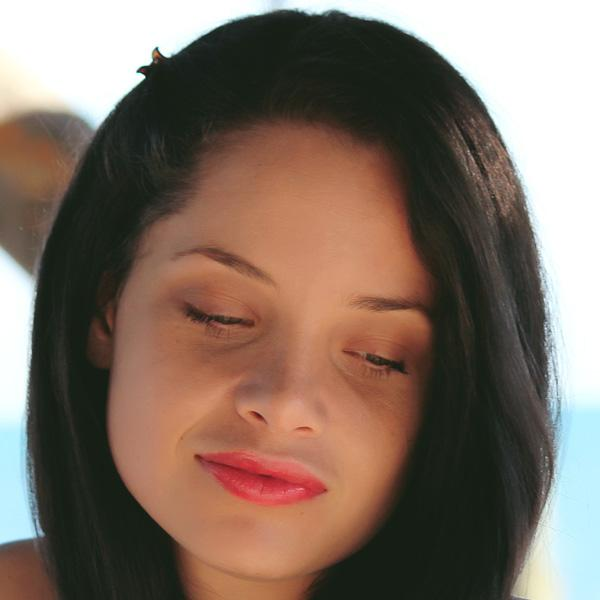Eyes: (171, 276, 265, 347), (330, 322, 414, 385)
